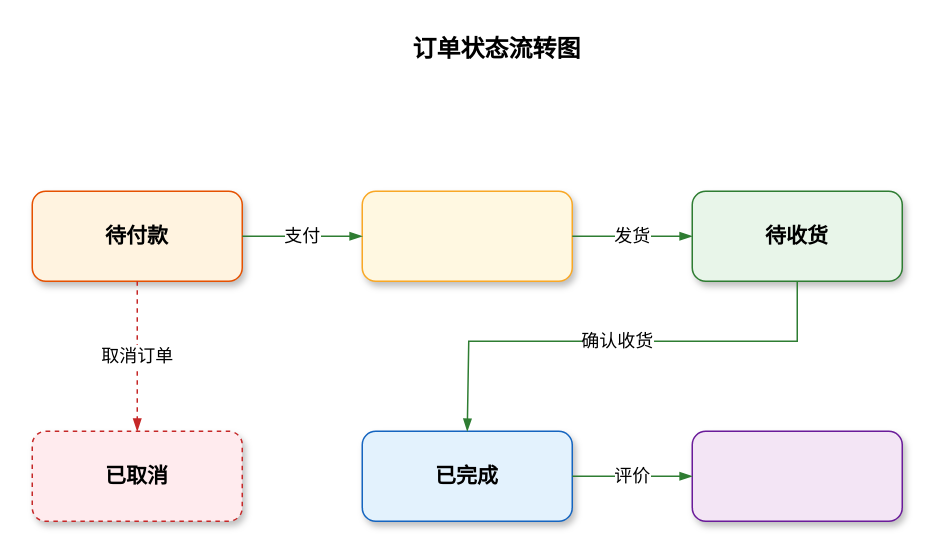
Image size: 938x558. Some labels were removed from this diagram. The centre of each missing label's shape, as x and y in pixels:
"已评价" belongs at (798,478).
"待发货" belongs at (468,238).
